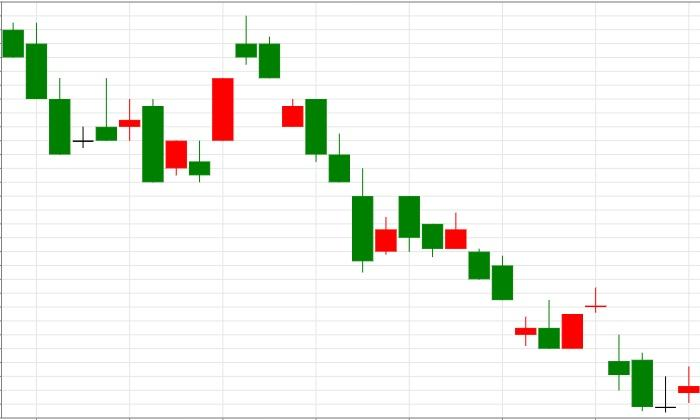inverse_hammer_rise: (399, 196, 559, 348)
